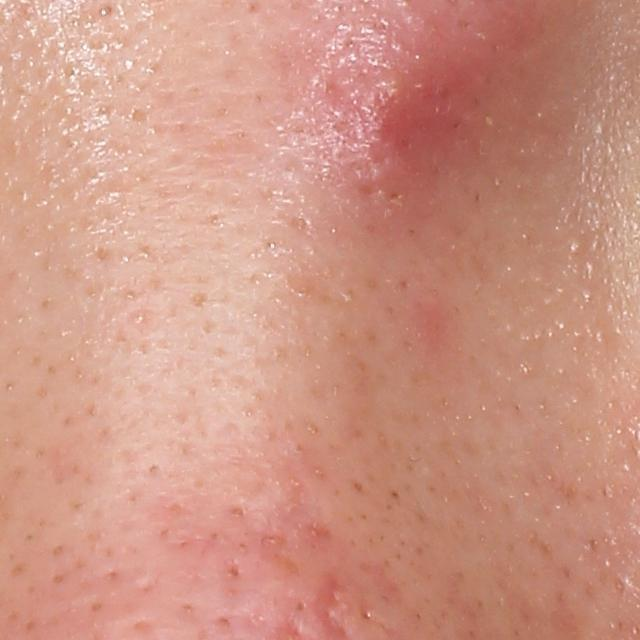comedo: (226, 503, 247, 521), (291, 596, 311, 614)
